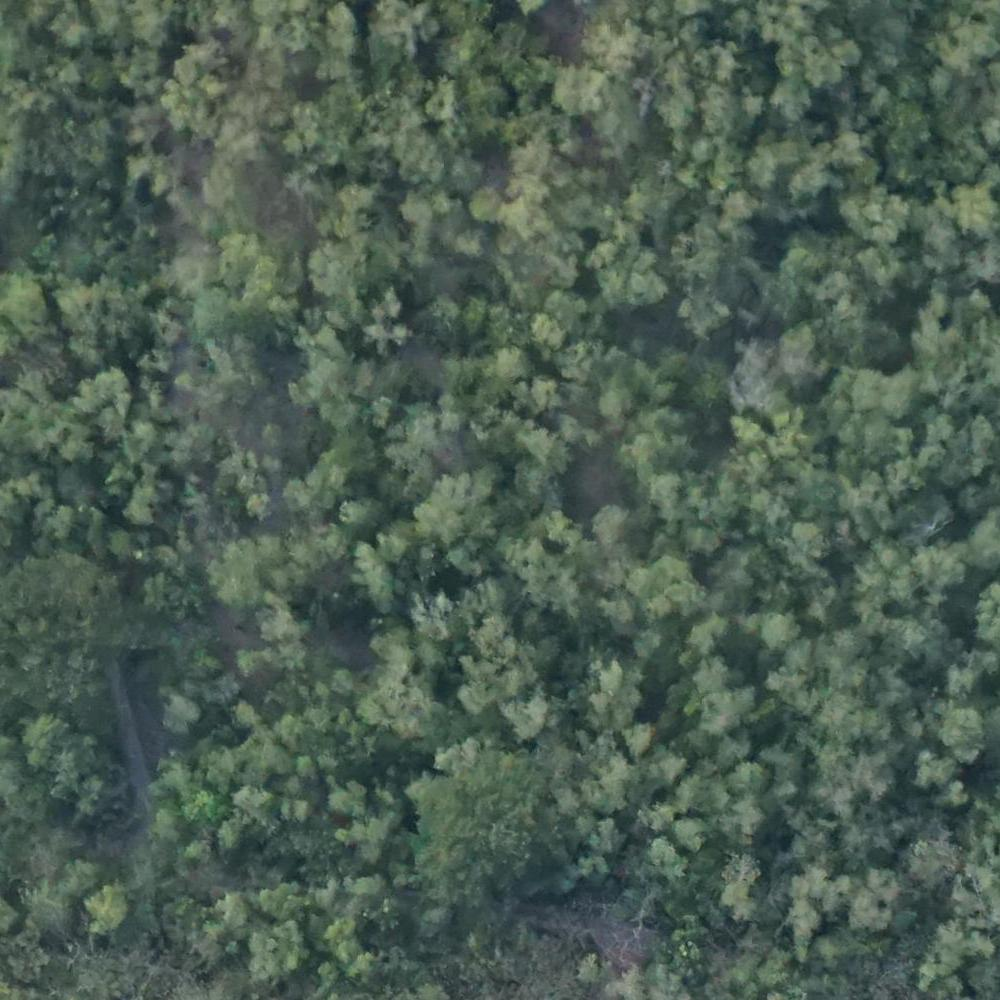tree: (423, 751, 548, 894), (413, 483, 490, 549), (305, 241, 394, 298), (591, 238, 663, 305), (62, 287, 134, 353), (696, 688, 768, 747), (289, 332, 347, 403), (211, 537, 274, 601), (199, 345, 261, 406), (79, 368, 136, 426), (633, 557, 693, 612), (1, 272, 42, 351), (65, 757, 114, 821), (159, 73, 214, 129), (175, 40, 232, 93), (675, 288, 733, 340), (594, 26, 650, 78), (551, 61, 602, 118), (244, 928, 310, 970), (361, 297, 412, 346), (846, 751, 898, 798), (837, 362, 887, 410), (715, 185, 765, 233), (852, 885, 899, 936), (856, 191, 905, 239), (590, 668, 638, 717), (794, 158, 838, 211), (944, 707, 989, 754), (643, 835, 688, 881), (341, 488, 390, 530), (20, 712, 65, 754), (216, 230, 259, 273), (830, 124, 872, 168), (913, 543, 961, 581), (335, 187, 377, 230), (786, 903, 826, 946), (596, 382, 636, 424), (594, 501, 634, 543), (621, 715, 657, 761), (505, 689, 545, 730), (762, 413, 806, 450), (157, 695, 195, 736), (465, 179, 501, 219), (527, 427, 565, 462), (547, 511, 591, 541), (87, 888, 118, 929), (532, 310, 565, 348), (765, 609, 800, 643), (261, 610, 296, 644), (796, 521, 831, 554), (912, 750, 949, 777), (643, 800, 682, 824), (676, 821, 712, 846), (244, 494, 273, 521)
